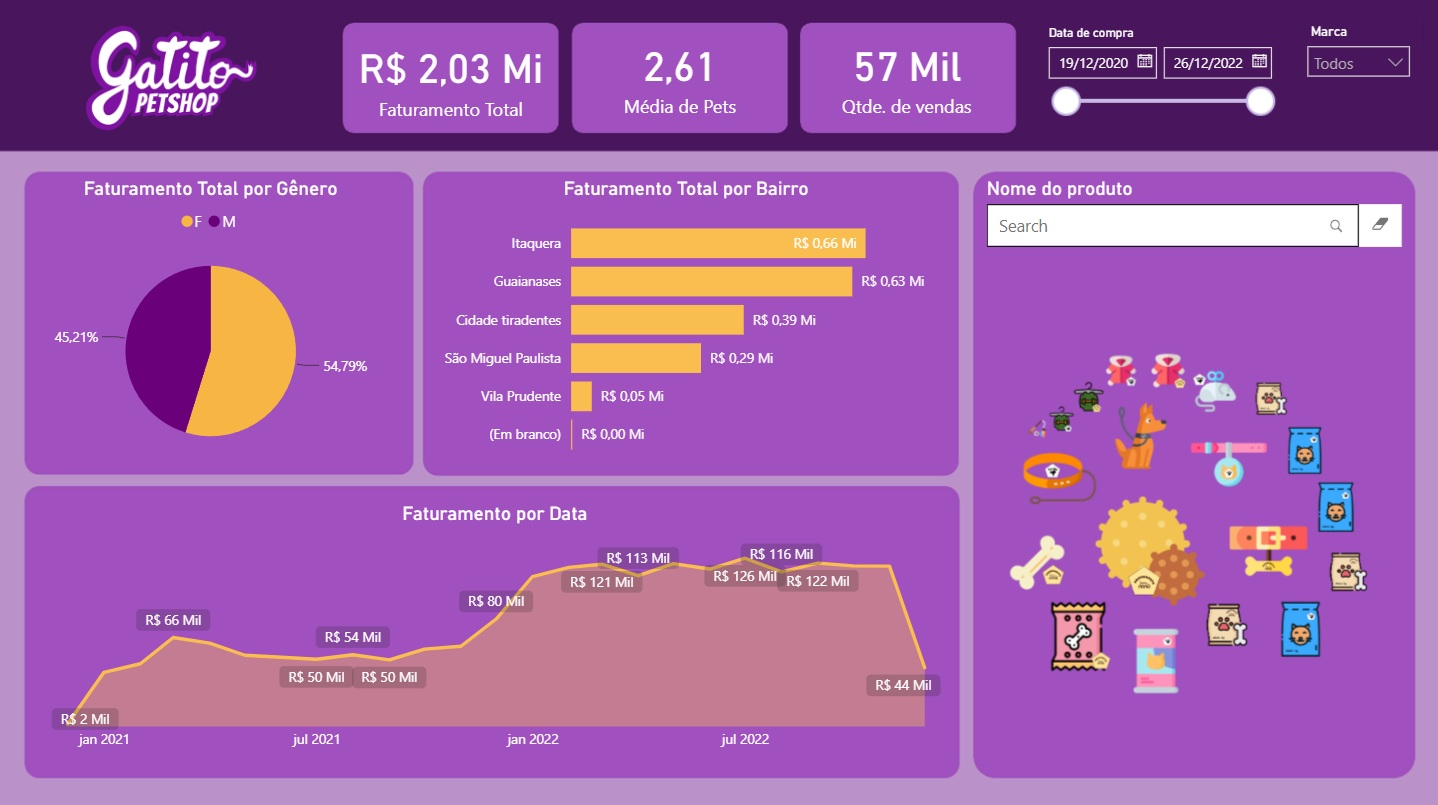

This screenshot's page, from the dashboard's own definition file:
{"tool":"powerbi","page":{"name":"Página 1","canvas":[1280,720],"ordinal":0},"visuals":[{"type":"card","fields":{"Values":["Avg(Clientes.Pets)"]},"box":[514,27,186,84],"z":0},{"type":"card","fields":{"Values":["Sum(Vendas.Quantidade)"]},"box":[728,27,161,84],"z":1000},{"type":"card","fields":{"Values":["Vendas.Faturamento Total"]},"box":[311,20,186,101],"z":2000},{"type":"pieChart","fields":{"Category":["Clientes.Gênero"],"Y":["Vendas.Faturamento Total"]},"box":[29,160,324,261],"z":5000},{"type":"clusteredBarChart","fields":{"Category":["Clientes.Bairro"],"Y":["Vendas.Faturamento Total"]},"box":[385,160,456,261],"z":6000},{"type":"areaChart","title":"Faturamento por Data","fields":{"Category":["Vendas.Data de compra.Variation.Hierarquia de datas.Ano","Vendas.Data de compra.Variation.Hierarquia de datas.Trimestre","Vendas.Data de compra.Variation.Hierarquia de datas.Mês","Vendas.Data de compra.Variation.Hierarquia de datas.Dia"],"Y":["Vendas.Faturamento Total"]},"box":[36,448,814,229],"z":7000},{"type":"ImageGrid_FC5183B9_926C_45E0_B5F7_0CE9EAF1DA9B","fields":{"ImageURL":["Produtos.Url img"]},"box":[874,256,369,421],"z":8000},{"type":"textFilter25A4896A83E0487089E2B90C9AE57C8A","title":"Nome do produto","fields":{"field":["Produtos.Nome produto"]},"box":[874,160,378,79],"z":9000},{"type":"slicer","fields":{"Values":["Produtos.Marca"]},"box":[1154,19,111,84],"z":10000},{"type":"slicer","fields":{"Values":["Vendas.Data de compra"]},"box":[921,20,223,101],"z":11000}]}

Visuals, with their boxes in screenshot pixels (x1, y1, x2, y2), scaled from the page's 1280x720 canvas onto the 1438x805 screenshot:
card - Avg(Clientes.Pets): crop(577, 30, 786, 124)
card - Sum(Vendas.Quantidade): crop(818, 30, 999, 124)
card - Vendas.Faturamento Total: crop(349, 22, 558, 135)
pieChart - Clientes.Gênero x Vendas.Faturamento Total: crop(33, 179, 397, 471)
clusteredBarChart - Clientes.Bairro x Vendas.Faturamento Total: crop(433, 179, 945, 471)
"Faturamento por Data" areaChart: crop(40, 501, 955, 757)
ImageGrid_FC5183B9_926C_45E0_B5F7_0CE9EAF1DA9B - Produtos.Url img: crop(982, 286, 1396, 757)
"Nome do produto" textFilter25A4896A83E0487089E2B90C9AE57C8A: crop(982, 179, 1407, 267)
slicer - Produtos.Marca: crop(1296, 21, 1421, 115)
slicer - Vendas.Data de compra: crop(1035, 22, 1285, 135)
